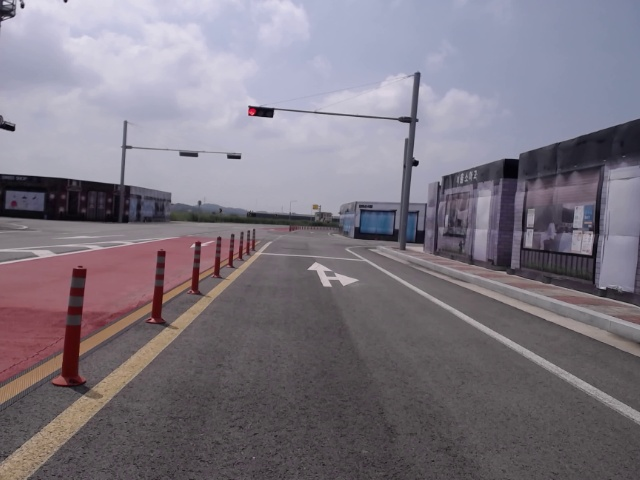red_3: (249, 106, 274, 118)
